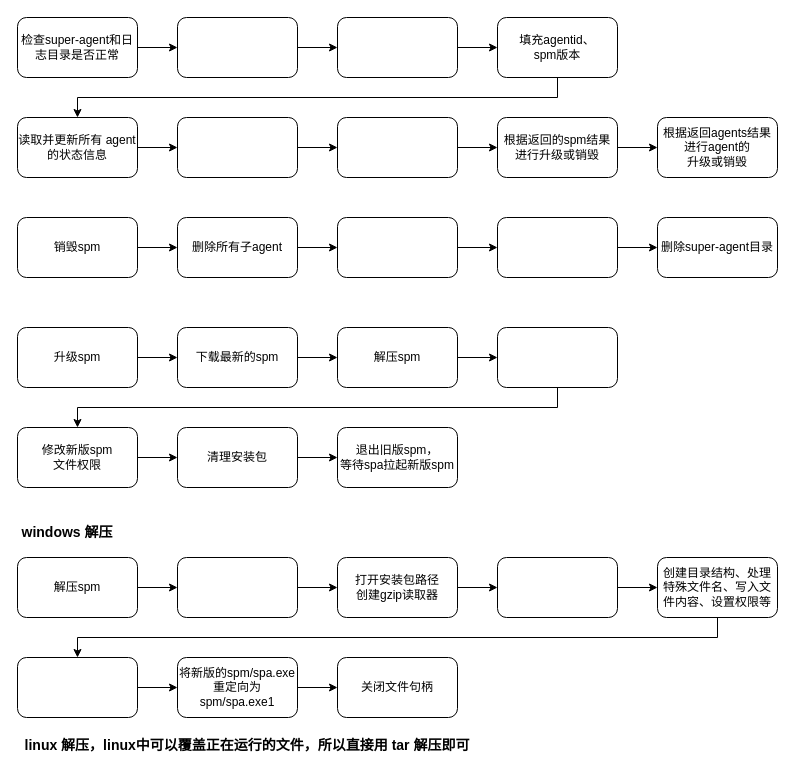
The diagram is 795 pixels wide and 778 high, and some of its shapes have lost their labels. The shapes that lost their labels are listed below. From the top down, each one's centre as x and y in pixels, then its label:
At pixel 237 47: "域名解析".
At pixel 397 47: "构造心跳参数".
At pixel 237 147: "填充心跳信息".
At pixel 397 147: "发送心跳".
At pixel 397 247: "停止spa".
At pixel 557 247: "注销super-agent服务".
At pixel 557 357: "更新新版spm的 配置文件引用路径".
At pixel 237 587: "检查并创建目录".
At pixel 557 587: "创建tar读取器，对每个文件目录进行处理".
At pixel 77 687: "windwos下解压无法覆盖正在运行的文件".
